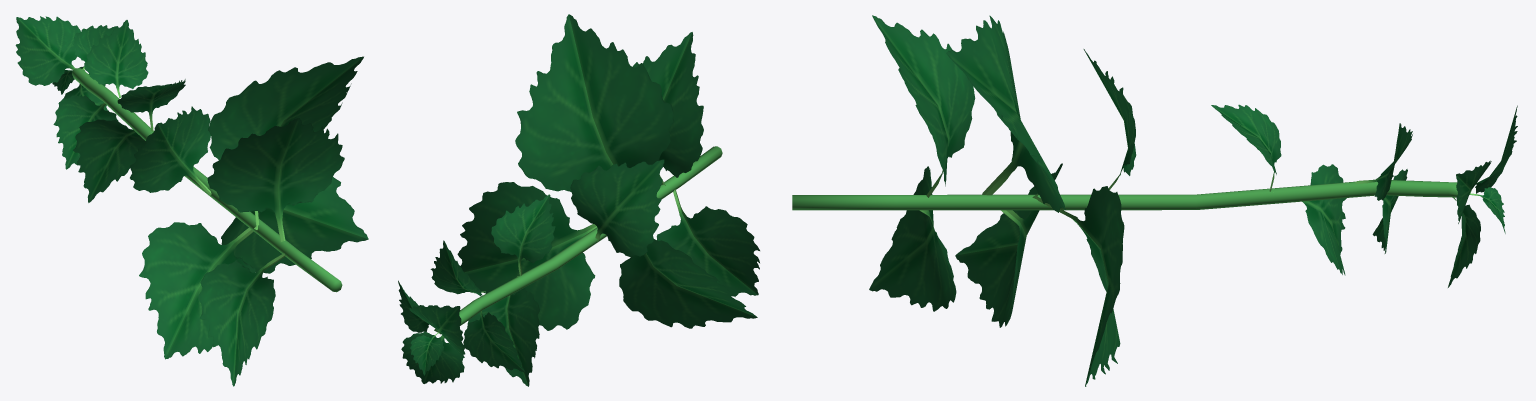
Rendered from SM_Sunflower_GrowBase.fbx.
3 renders of one model, left to right at view 1: azimuth 30°, elevation 25°; view 2: azimuth 150°, elevation 25°; view 3: azimuth 270°, elevation 25°, orthographic. The views are drawn at different scales.
Parts seen in each view (by area): view 1: Sunflower_GrowBase; view 2: Sunflower_GrowBase; view 3: Sunflower_GrowBase.
Boxes of the visible parts, <box> form: Sunflower_GrowBase: <box>15,16,368,386</box>; Sunflower_GrowBase: <box>398,14,759,386</box>; Sunflower_GrowBase: <box>792,15,1517,386</box>.
Size of the model in its own units: 104 by 107 by 205.
